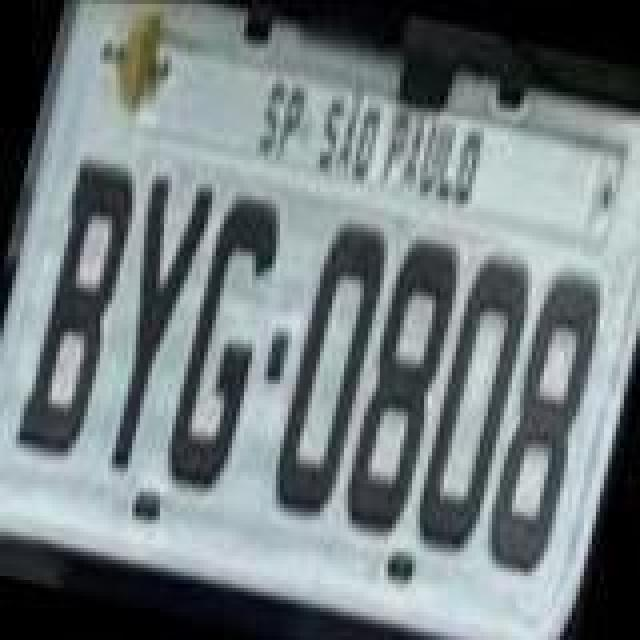8: (480, 258, 616, 582), (336, 222, 472, 542)
B: (12, 154, 148, 470)
G: (158, 188, 290, 504)
O: (260, 208, 396, 532), (404, 242, 540, 562)
Y: (84, 168, 220, 480)
